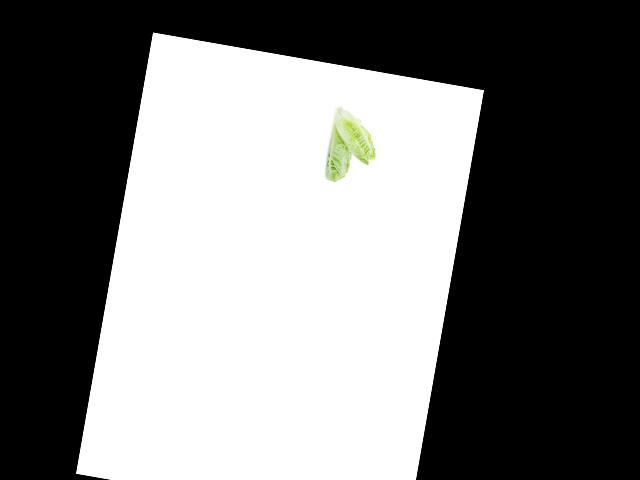lettuce: (317, 120, 358, 189)
